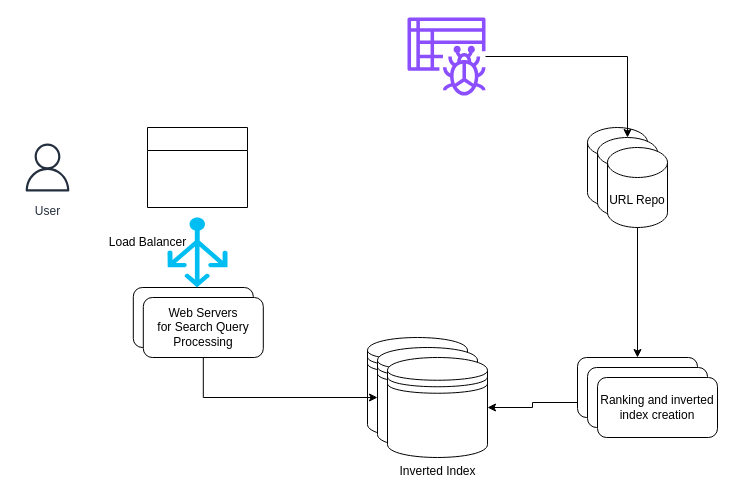
Image size: 735x495. Some labels were removed from this diagram. The shapes that lost their labels are listed below. From the top down, each one's centre as x and y in pixels, then its label:
At point (446, 56): "WEB CRAWLER".
At point (197, 167): "Search UI".
